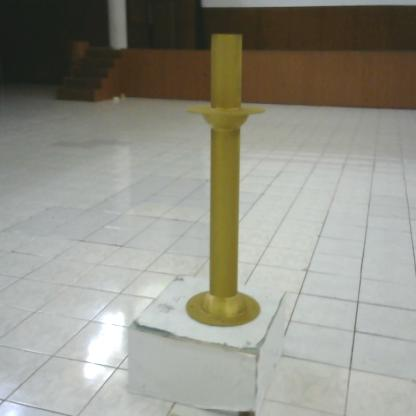pole: (181, 22, 268, 340)
